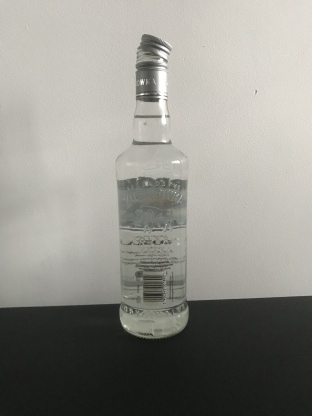nakretka: (134, 31, 172, 102)
